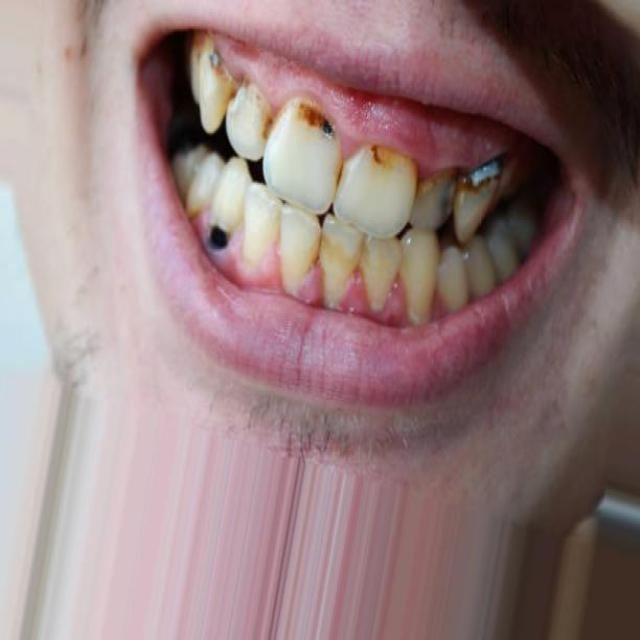caries: (296, 89, 344, 154), (205, 45, 246, 116), (361, 123, 406, 184), (463, 146, 504, 196), (199, 208, 237, 261), (249, 86, 278, 146)
